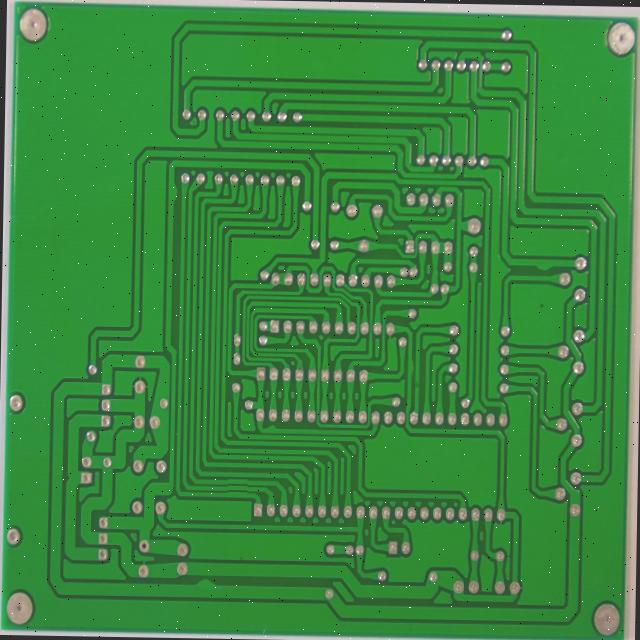spur: (120, 200, 138, 233), (521, 289, 546, 309), (383, 405, 394, 435), (226, 478, 246, 494)
